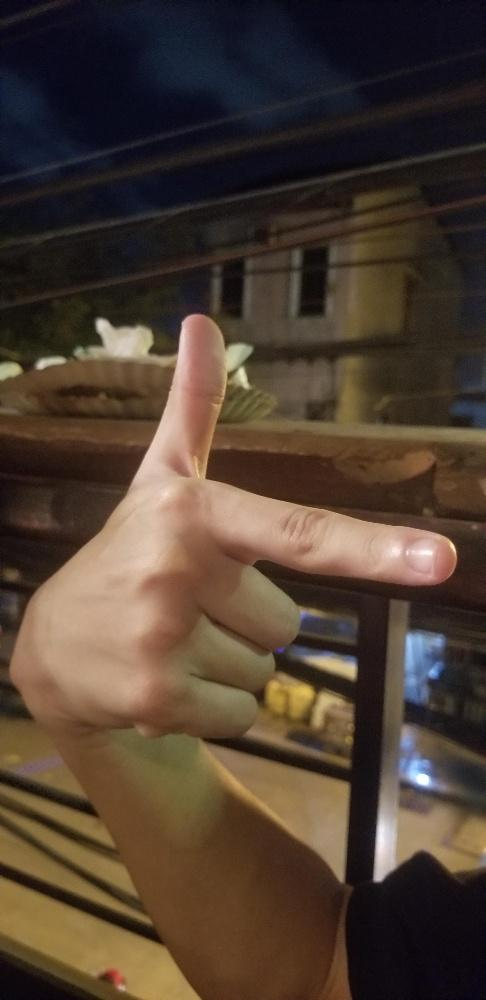g: (6, 304, 461, 740)
